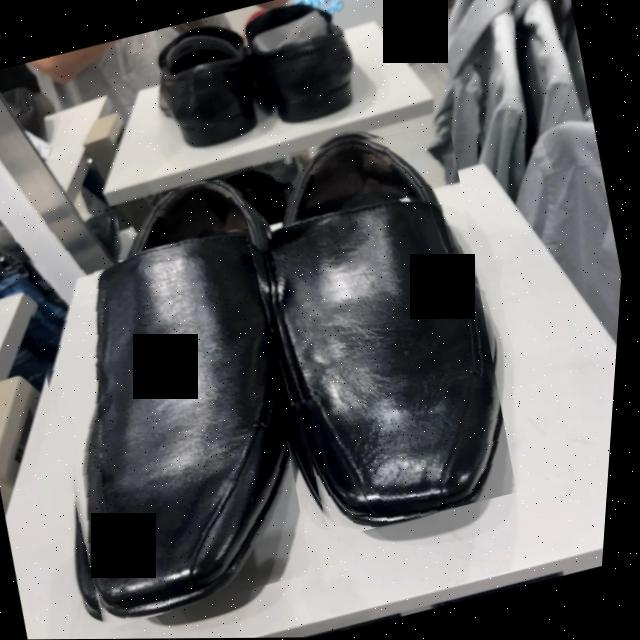shoe: (272, 141, 505, 526), (90, 181, 283, 620)
